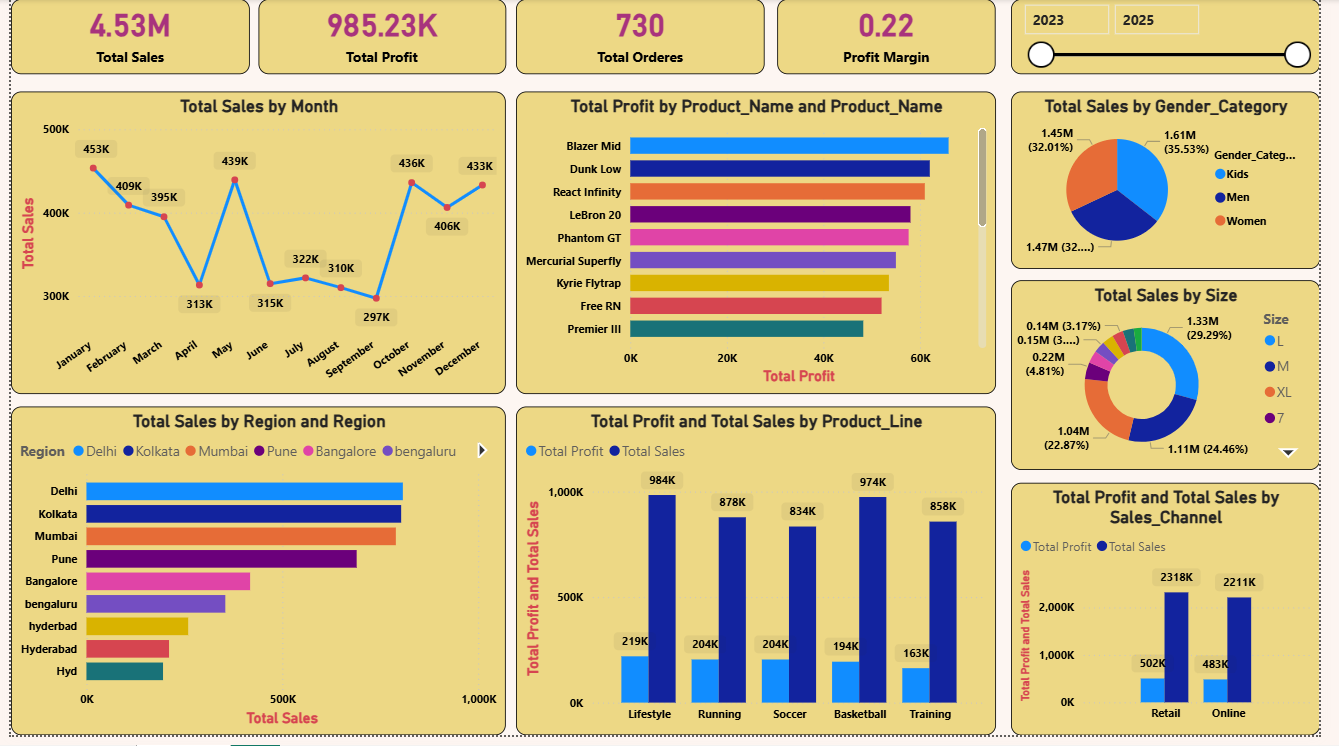

The dashboard page shown, as its layout file describes it:
{"tool":"powerbi","page":{"name":"Page 1","canvas":[1280,720],"ordinal":0},"visuals":[{"type":"lineChart","fields":{"Category":["Nike_Sales.Order_Date.Variation.Date Hierarchy.Month"],"Y":["Nike_Sales.Total Sales"]},"box":[0,90.5,484.2,295.9],"z":0},{"type":"slicer","fields":{"Values":["Nike_Sales.Year"]},"box":[978.3,0,302,73.4],"z":1000},{"type":"barChart","fields":{"Y":["Nike_Sales.Total Sales"],"Category":["Nike_Sales.Region"],"Series":["Nike_Sales.Region"]},"box":[0,398.6,484.2,321.6],"z":2000},{"type":"pieChart","fields":{"Y":["Nike_Sales.Total Sales"],"Category":["Nike_Sales.Gender_Category"]},"box":[978.3,90.5,302,173.6],"z":3000},{"type":"barChart","fields":{"Category":["Nike_Sales.Product_Name"],"Y":["Nike_Sales.Total Profit"],"Series":["Nike_Sales.Product_Name"]},"box":[494,90.5,469.6,295.9],"z":4000},{"type":"clusteredColumnChart","fields":{"Category":["Nike_Sales.Product_Line"],"Y":["Nike_Sales.Total Profit","Nike_Sales.Total Sales"]},"box":[494,398.6,469.6,321.6],"z":5000},{"type":"donutChart","fields":{"Category":["Nike_Sales.Size"],"Y":["Nike_Sales.Total Sales"]},"box":[978.3,275.1,302,185.9],"z":6000},{"type":"card","fields":{"Values":["Nike_Sales.Total Sales"]},"box":[0,0,233.6,73.4],"z":7000},{"type":"card","fields":{"Values":["Nike_Sales.Total Profit"]},"box":[242.1,0,242.1,73.4],"z":8000},{"type":"card","fields":{"Values":["Nike_Sales.Total Orderes"]},"box":[494,0,243.3,73.4],"z":9000},{"type":"card","fields":{"Values":["Nike_Sales.Profit Margin"]},"box":[749.6,0,214,73.4],"z":10000},{"type":"clusteredColumnChart","fields":{"Category":["Nike_Sales.Sales_Channel"],"Y":["Nike_Sales.Total Profit","Nike_Sales.Total Sales"]},"box":[978.3,473.2,302,247],"z":11000}]}

Visuals, with their boxes in screenshot pixels (x1, y1, x2, y2), scaled from the page's 1280x720 canvas onto the 1339x746 screenshot:
lineChart - Nike_Sales.Order_Date.Variation.Date Hierarchy.Month x Nike_Sales.Total Sales: (left=0, top=94, right=507, bottom=400)
slicer - Nike_Sales.Year: (left=1023, top=0, right=1338, bottom=76)
barChart - Nike_Sales.Total Sales x Nike_Sales.Region: (left=0, top=413, right=507, bottom=745)
pieChart - Nike_Sales.Total Sales x Nike_Sales.Gender_Category: (left=1023, top=94, right=1338, bottom=274)
barChart - Nike_Sales.Product_Name x Nike_Sales.Total Profit: (left=517, top=94, right=1008, bottom=400)
clusteredColumnChart - Nike_Sales.Product_Line x Nike_Sales.Total Profit: (left=517, top=413, right=1008, bottom=745)
donutChart - Nike_Sales.Size x Nike_Sales.Total Sales: (left=1023, top=285, right=1338, bottom=478)
card - Nike_Sales.Total Sales: (left=0, top=0, right=244, bottom=76)
card - Nike_Sales.Total Profit: (left=253, top=0, right=507, bottom=76)
card - Nike_Sales.Total Orderes: (left=517, top=0, right=771, bottom=76)
card - Nike_Sales.Profit Margin: (left=784, top=0, right=1008, bottom=76)
clusteredColumnChart - Nike_Sales.Sales_Channel x Nike_Sales.Total Profit: (left=1023, top=490, right=1338, bottom=745)
